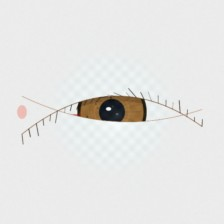hemorrhage_spot: (47, 100, 107, 148)
